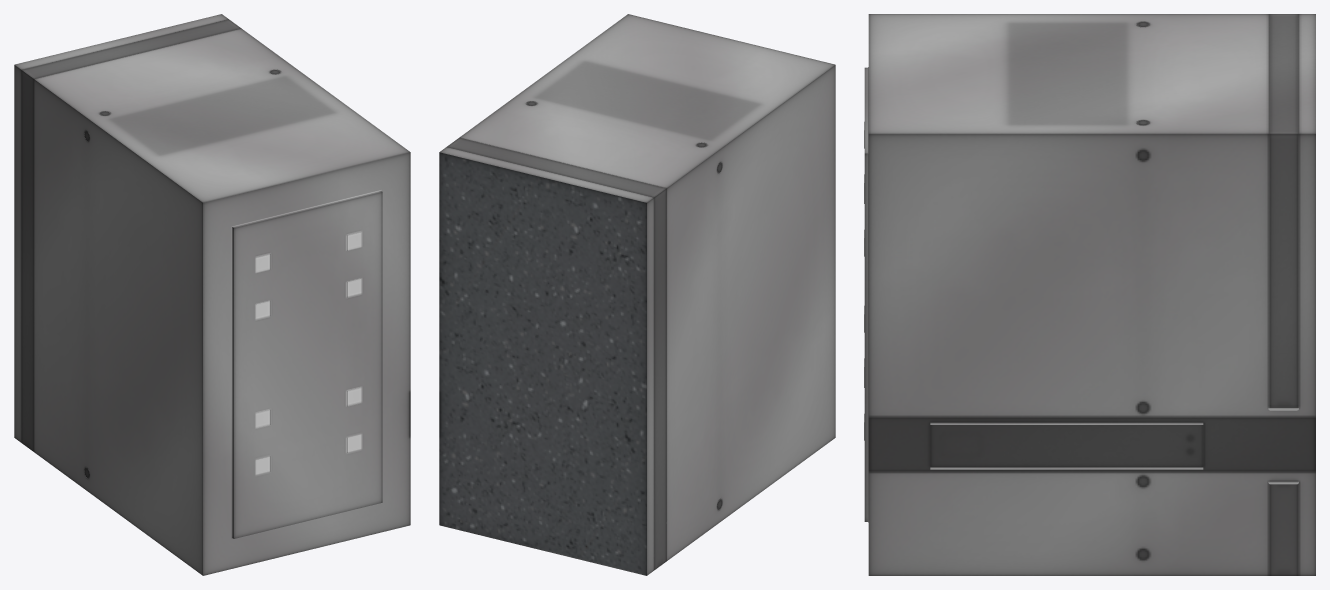
The model's file is aws_robomaker_hospital_elevator_01_car_visual.dae.
3 views of the same model, side by side, from view 1: azimuth 30°, elevation 25°; view 2: azimuth 150°, elevation 25°; view 3: azimuth 270°, elevation 25° (orthographic). The views are drawn at different scales.
Visible parts, largest first — view 1: aws_robomaker_hospital_elevator_01_car_visual; view 2: aws_robomaker_hospital_elevator_01_car_visual; view 3: aws_robomaker_hospital_elevator_01_car_visual.
Part boxes in pixels (x1=…): aws_robomaker_hospital_elevator_01_car_visual: x1=14, y1=14, x2=410, y2=575; aws_robomaker_hospital_elevator_01_car_visual: x1=439, y1=14, x2=835, y2=575; aws_robomaker_hospital_elevator_01_car_visual: x1=864, y1=14, x2=1315, y2=575.
Bounding box in the file's own units: 149 × 250 × 232.
1 material, 1 textured.
